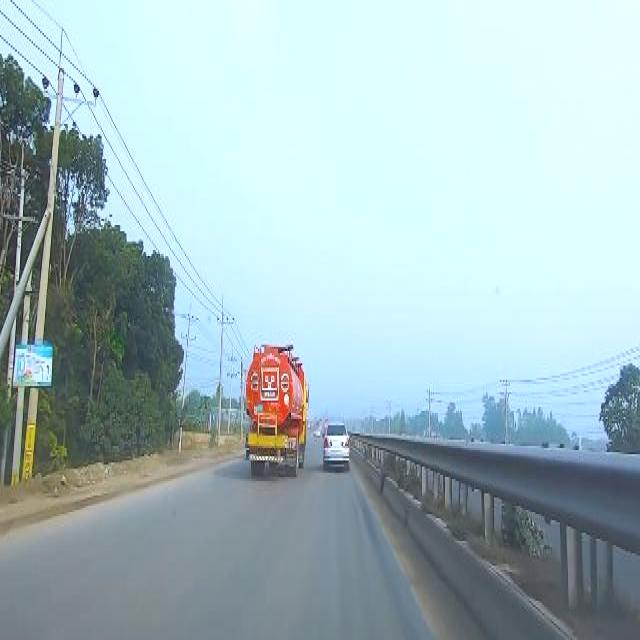TRUCK: (244, 341, 308, 473)
